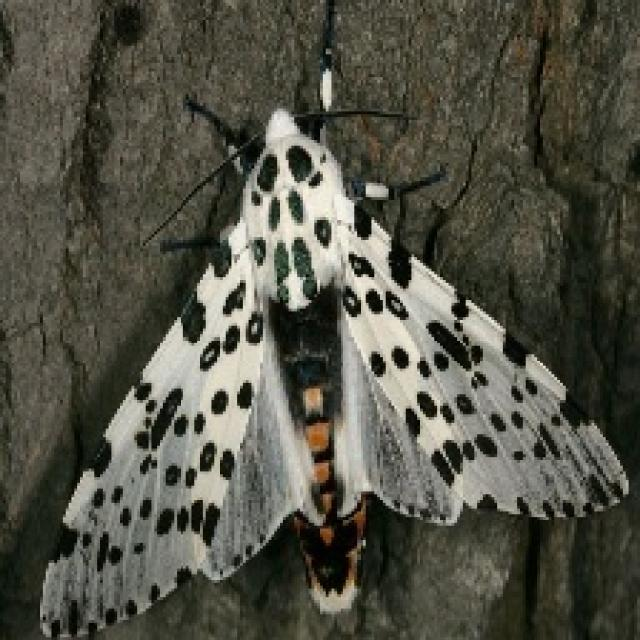butterfly: (34, 0, 632, 637)
